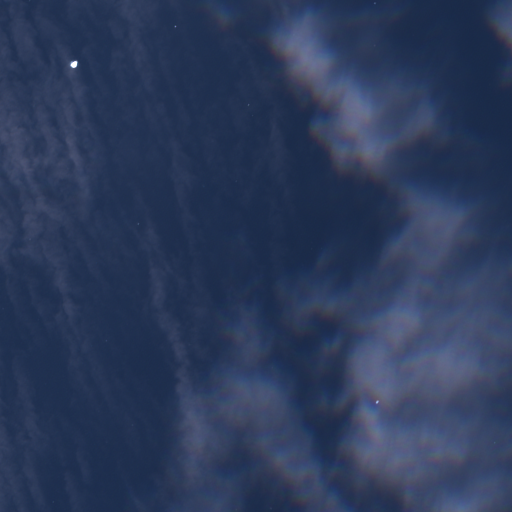Iceberg: (70, 61, 77, 67), (376, 400, 378, 403), (174, 25, 176, 27), (374, 2, 375, 3), (248, 104, 249, 105), (137, 223, 138, 224)
